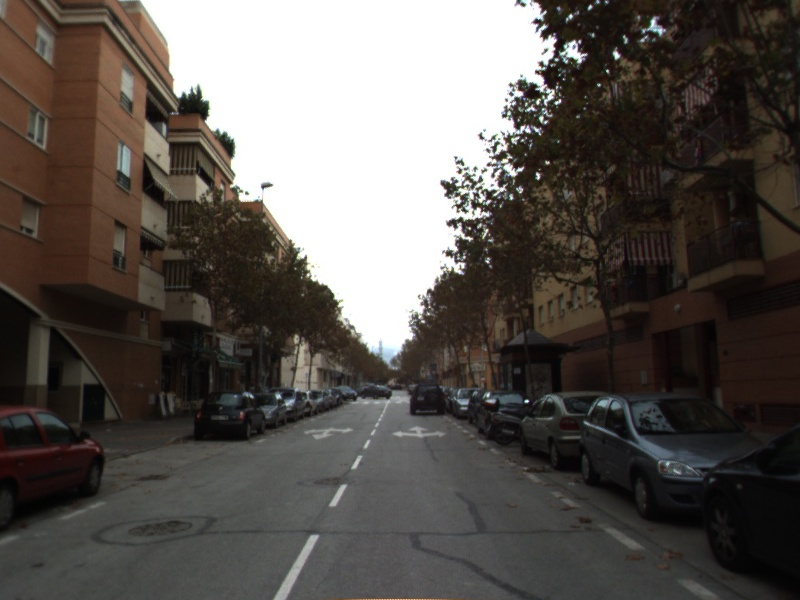STRAIGHT_LEFT_RIGHT: (390, 424, 449, 440)
